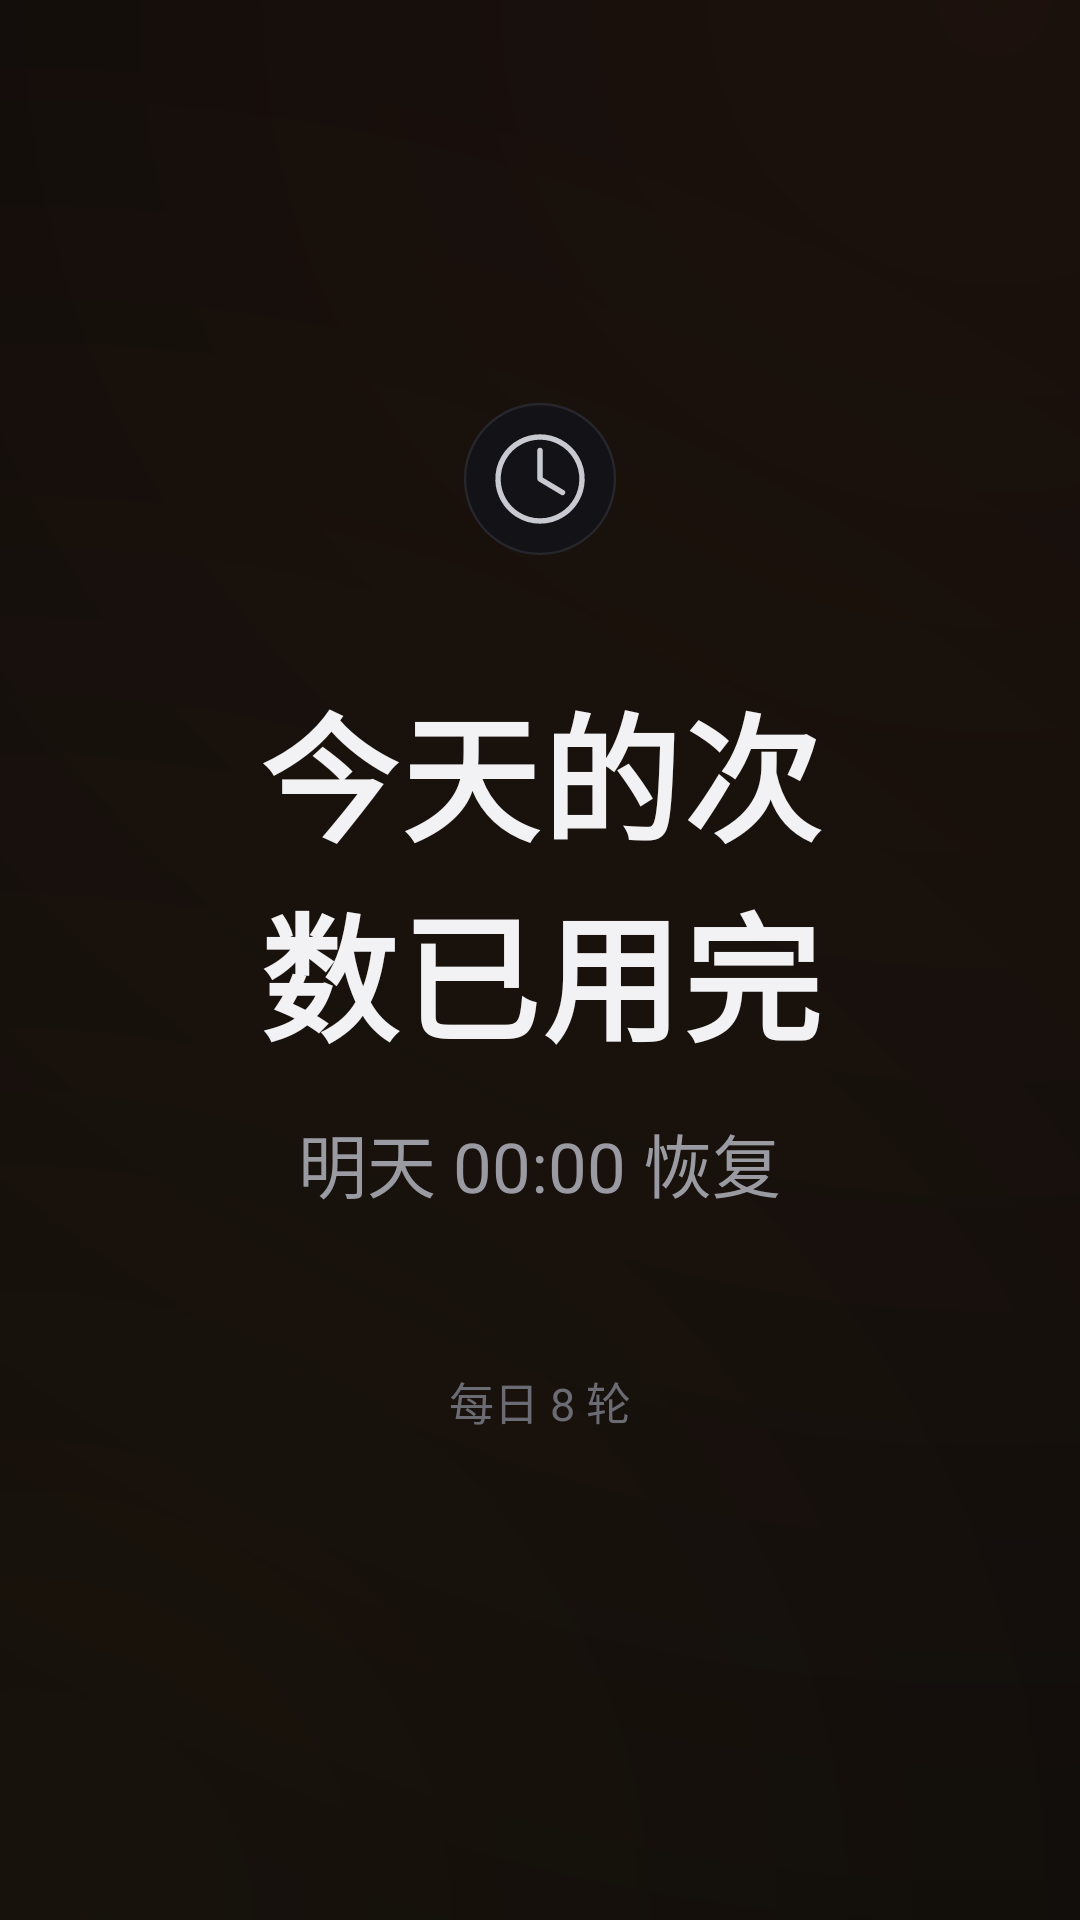

Icons on this 1080 x 1920 Android screen, each with the point to tap as point (x, y):
clock badge: point (540, 479)
